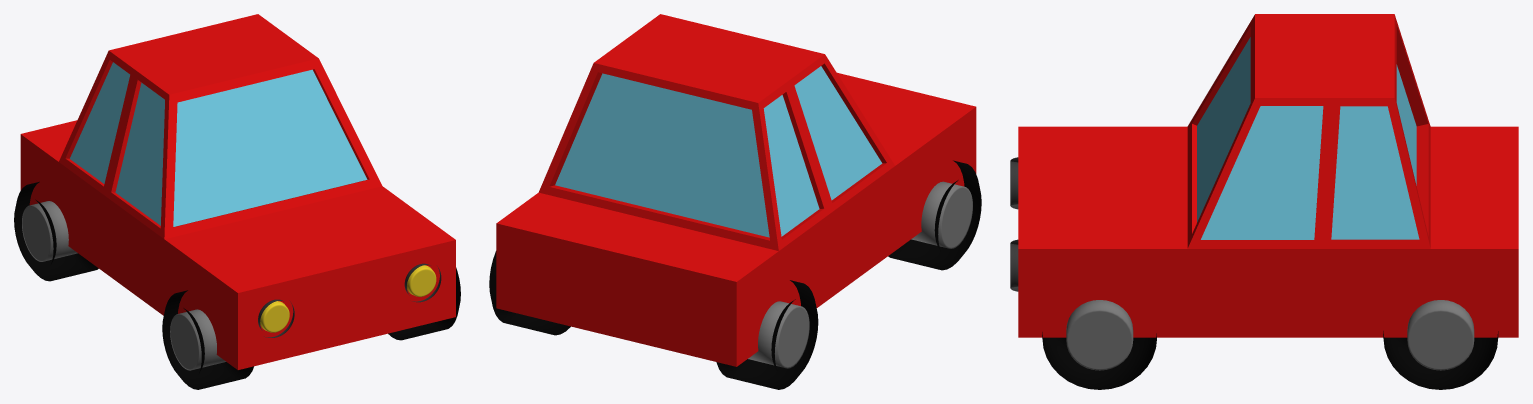
The model's file is car.fbx.
The picture shows the model from 3 angles, left to right: view 1: azimuth 30°, elevation 25°; view 2: azimuth 150°, elevation 25°; view 3: azimuth 270°, elevation 25°; orthographic projection. The views are drawn at different scales.
Visible parts, largest first — view 1: 立方体, 立方体.004, 立方体.005, 立方体.006, 立方体.007, 円.005, 円.001, 円.006, 円.002, 円.003; view 2: 立方体.007, 立方体.003, 立方体, 立方体.005, 立方体.006, 円.001, 円.005, 円.004; view 3: 立方体, 立方体.001, 立方体.007, 立方体.002, 円.004, 円.003, 立方体.004, 立方体.003, 円.006, 円.002.
Part boxes in pixels (left/top/right/bottom): 立方体: left=136, top=34, right=455, bottom=369; 立方体.004: left=173, top=69, right=367, bottom=226; 立方体.005: left=106, top=70, right=169, bottom=315; 立方体.006: left=58, top=51, right=135, bottom=273; 立方体.007: left=20, top=14, right=284, bottom=206; 円.005: left=162, top=290, right=253, bottom=389; 円.001: left=14, top=181, right=98, bottom=281; 円.006: left=404, top=263, right=441, bottom=302; 円.002: left=258, top=299, right=294, bottom=337; 円.003: left=388, top=267, right=460, bottom=340; 立方体.007: left=496, top=41, right=787, bottom=366; 立方体.003: left=555, top=73, right=769, bottom=237; 立方体: left=624, top=14, right=976, bottom=250; 立方体.005: left=788, top=54, right=895, bottom=297; 立方体.006: left=758, top=81, right=830, bottom=307; 円.001: left=716, top=280, right=818, bottom=389; 円.005: left=888, top=160, right=981, bottom=270; 円.004: left=489, top=251, right=570, bottom=335; 立方体: left=1018, top=14, right=1332, bottom=337; 立方体.001: left=1187, top=98, right=1332, bottom=337; 立方体.007: left=1332, top=14, right=1518, bottom=337; 立方体.002: left=1322, top=98, right=1430, bottom=337; 円.004: left=1383, top=300, right=1498, bottom=389; 円.003: left=1042, top=300, right=1156, bottom=389; 立方体.004: left=1197, top=37, right=1250, bottom=222; 立方体.003: left=1396, top=64, right=1416, bottom=185; 円.006: left=1010, top=239, right=1018, bottom=291; 円.002: left=1010, top=157, right=1018, bottom=209.
Bounding box in the file's own units: 3.92 × 3.33 × 5.79.
